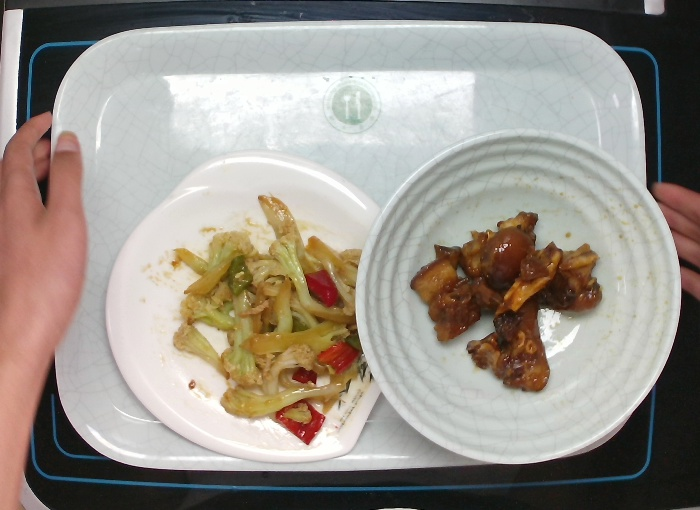JYsf-Da_Tang_Wan: (345, 123, 691, 473)
JYsf-Mian_Pan: (99, 148, 410, 464)
